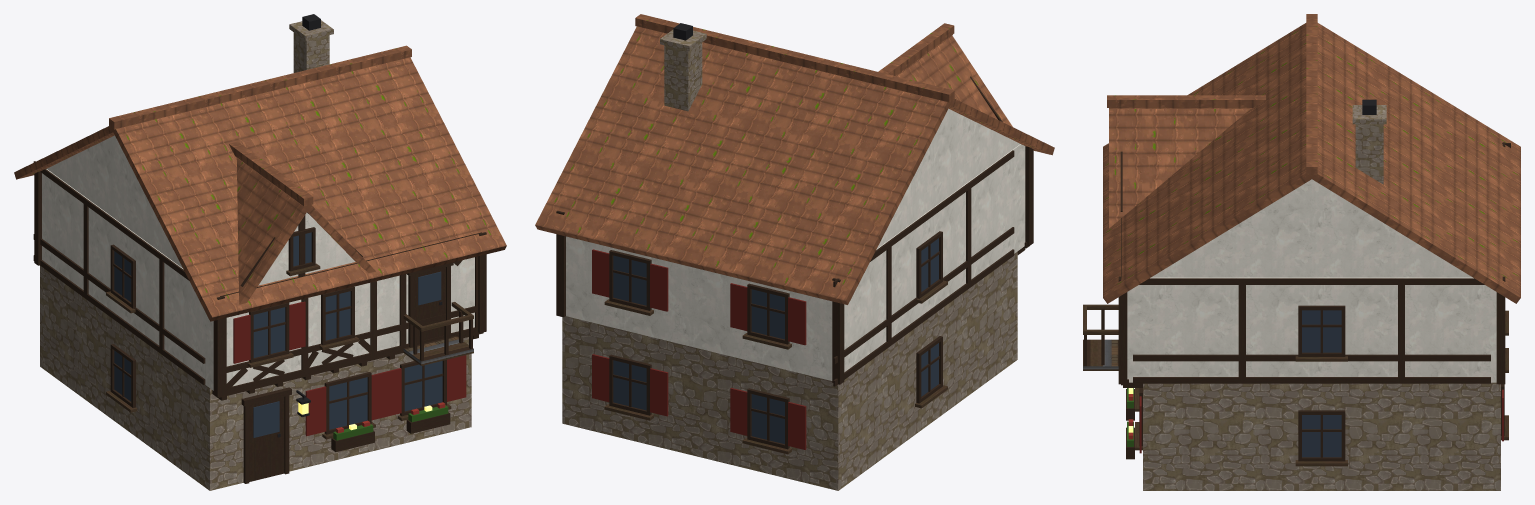
Rendered from timber_house.glb.
The picture shows the model from 3 angles, left to right: view 1: azimuth 30°, elevation 25°; view 2: azimuth 150°, elevation 25°; view 3: azimuth 270°, elevation 25°; orthographic projection. The views are drawn at different scales.
Visible parts, largest first — view 1: timber_house; view 2: timber_house; view 3: timber_house.
Part boxes in pixels (x1,y1,x2,y2): timber_house: [14, 14, 506, 490]; timber_house: [535, 14, 1054, 490]; timber_house: [1083, 14, 1520, 490].
Bounding box in the file's own units: 9.1 × 10.02 × 11.
Materials: 10 (4 with a texture image).
